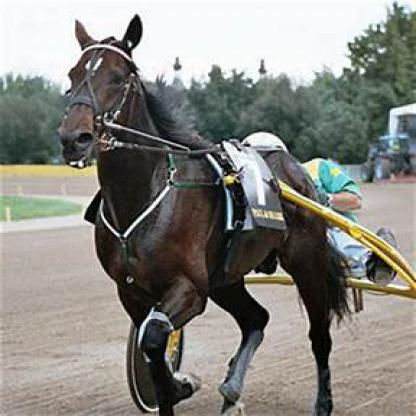horse: (60, 13, 352, 414)
